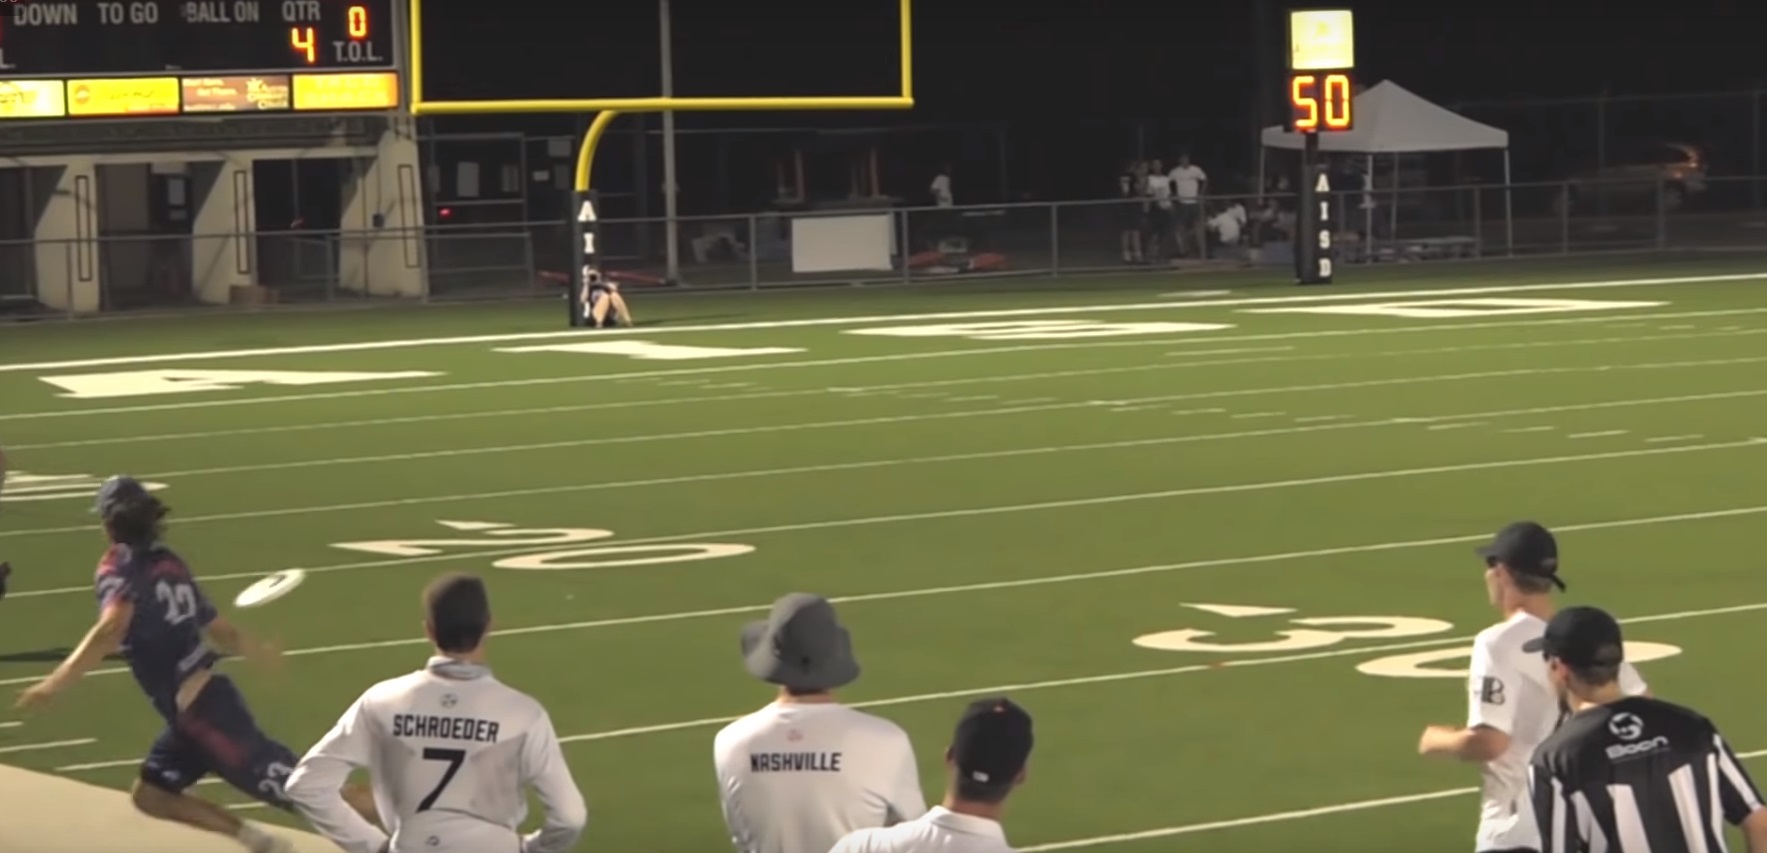frisbee: (234, 568, 307, 608)
